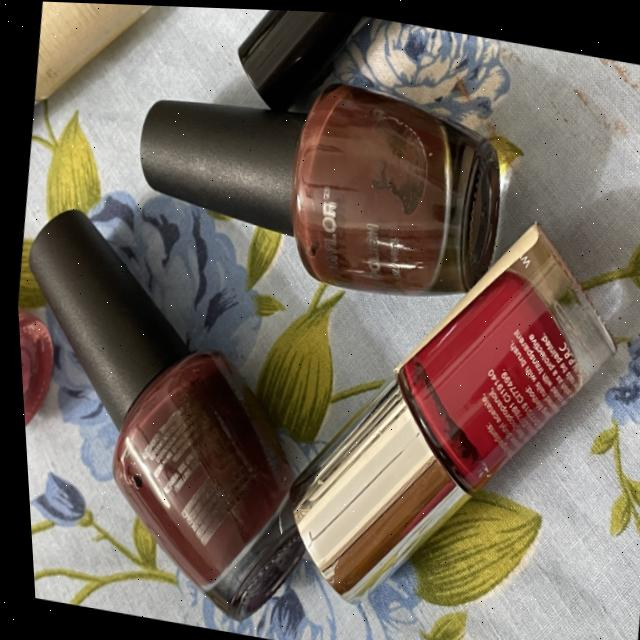nail polish: (248, 175, 640, 640), (8, 182, 346, 640), (106, 46, 524, 327), (188, 5, 507, 158), (16, 0, 181, 211), (14, 291, 76, 465)
